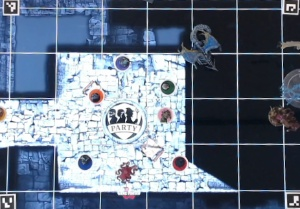green: (158, 78, 176, 95)
orange: (85, 86, 104, 104)
pink: (157, 105, 175, 123)
red: (170, 154, 189, 173)
violet: (111, 53, 133, 71), (78, 153, 94, 170)
yellow: (0, 101, 9, 124)
